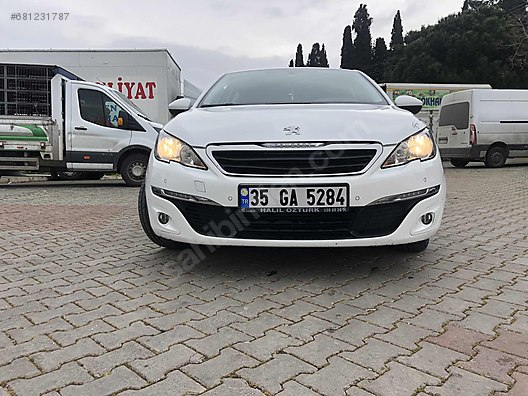peugeot: (139, 58, 449, 267)
